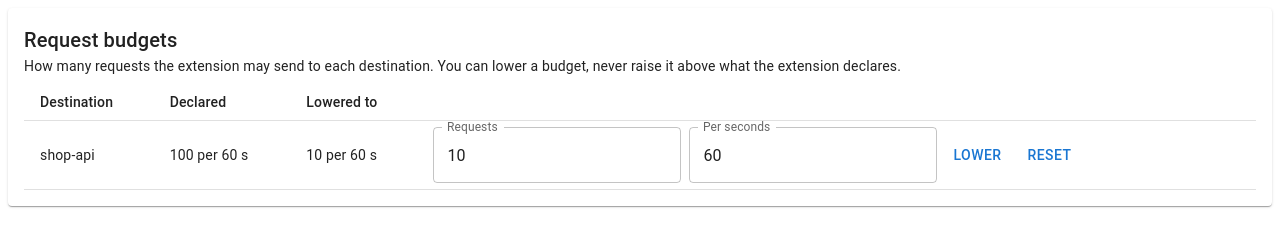
it: ExtensionBudgetsSection › shows the declared budget in its inputs after a reset
Check: the number field labelled "Requests" holds "10", box x1=434 y1=127 x2=682 y2=183
Click the button "Reset". click: {"x": 1050, "y": 155}
box: x1=1018 y1=127 x2=1082 y2=183
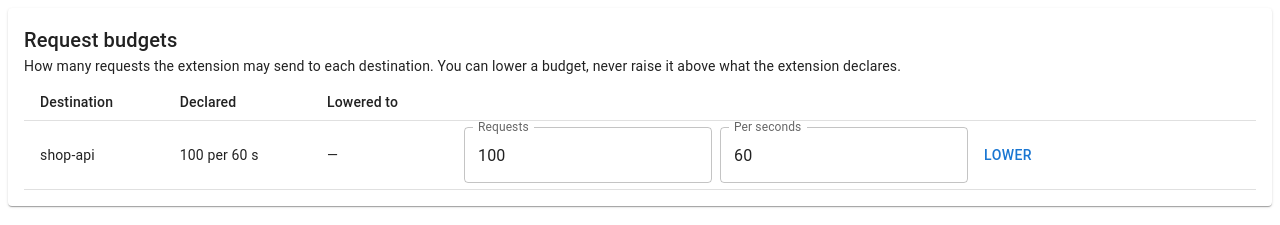
Check: the button "Reset" is gone
Check: the number field labelled "Requests" holds "100", box x1=464 y1=127 x2=712 y2=183
